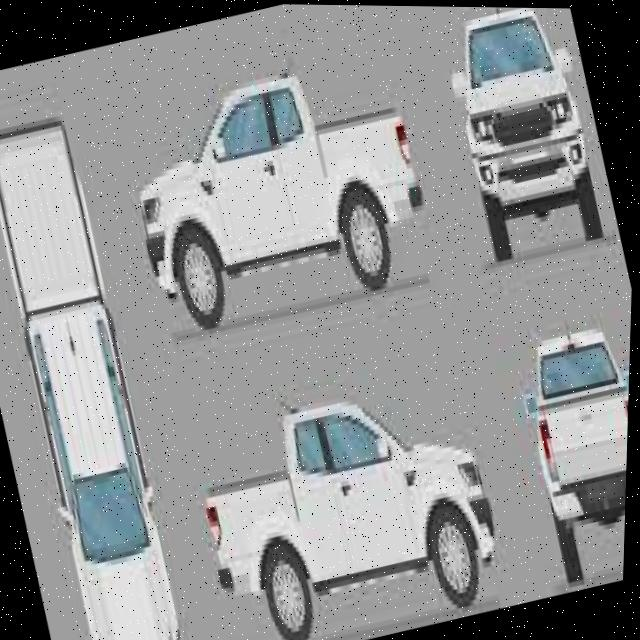truck: (0, 102, 212, 640), (112, 41, 447, 341), (183, 362, 520, 640)
